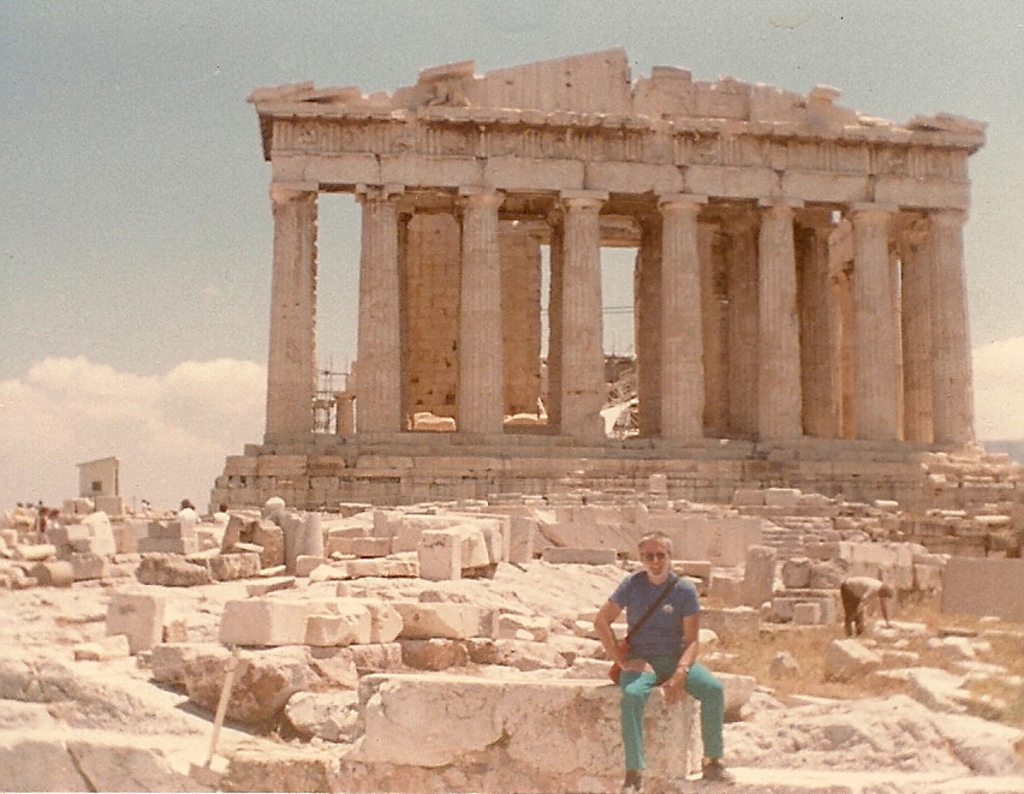Person: (595, 531, 738, 794), (841, 576, 898, 637)
